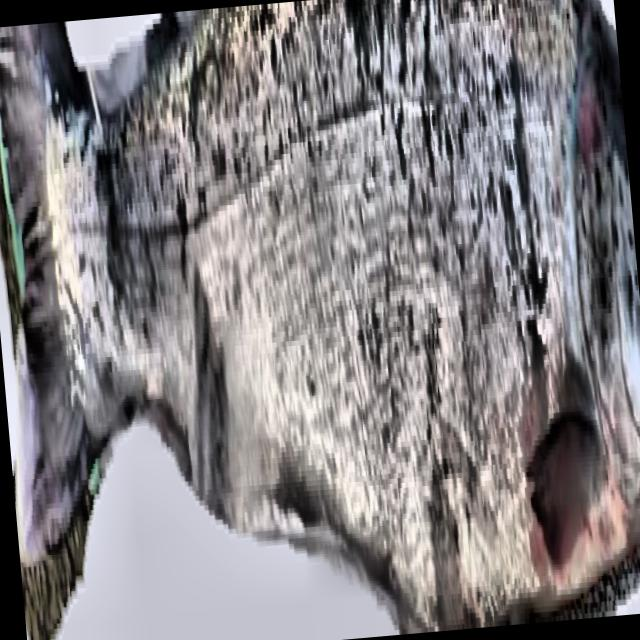mild_red: (1, 0, 640, 631)
